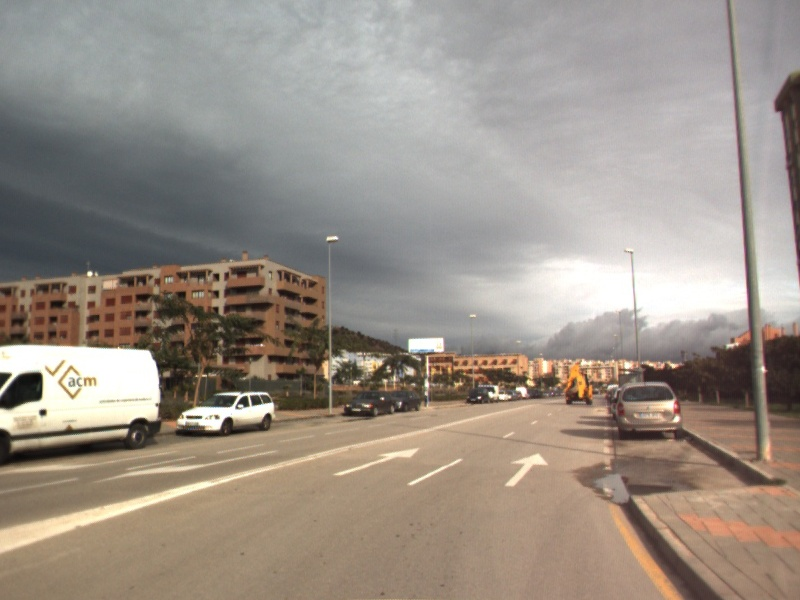STRAIGHT: (331, 446, 422, 477), (503, 451, 550, 489)
